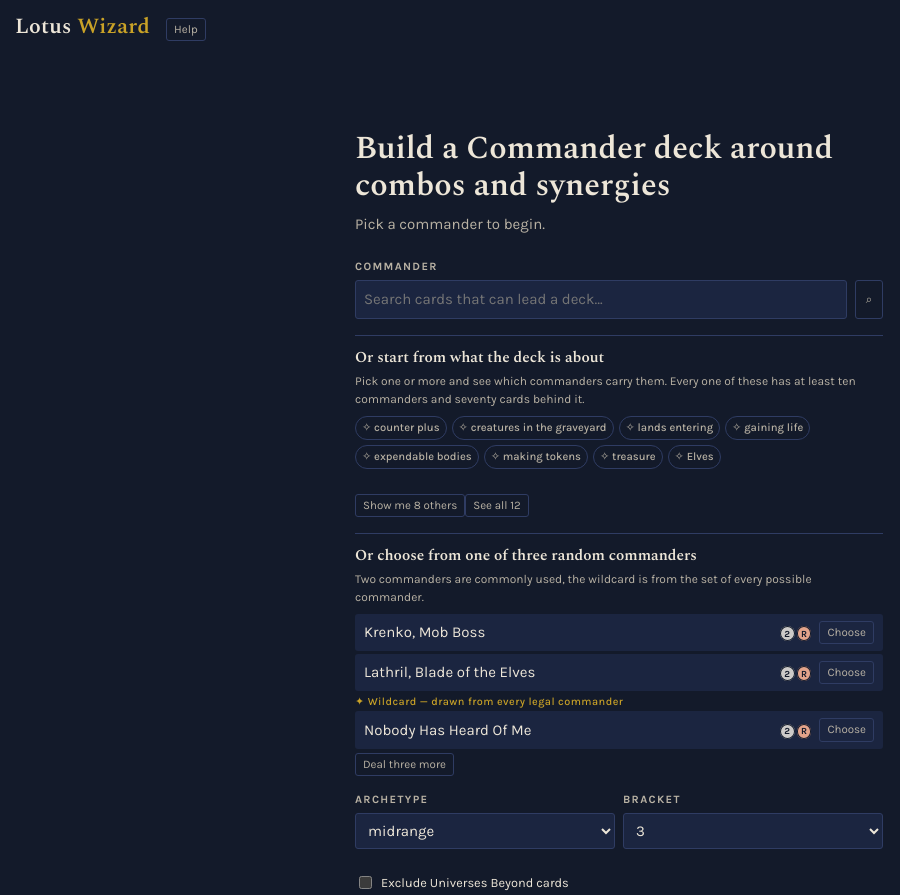
route 1 — start from what the deck is about › shows the commanders carrying a pick, as a real list
This screenshot has width=900, height=895.
Expected: the field labelled "Commander" is shown, 355,280 -> 847,319
Step 1. Click the button "✧ counter plus" → (401, 428), box 355,416 -> 447,440
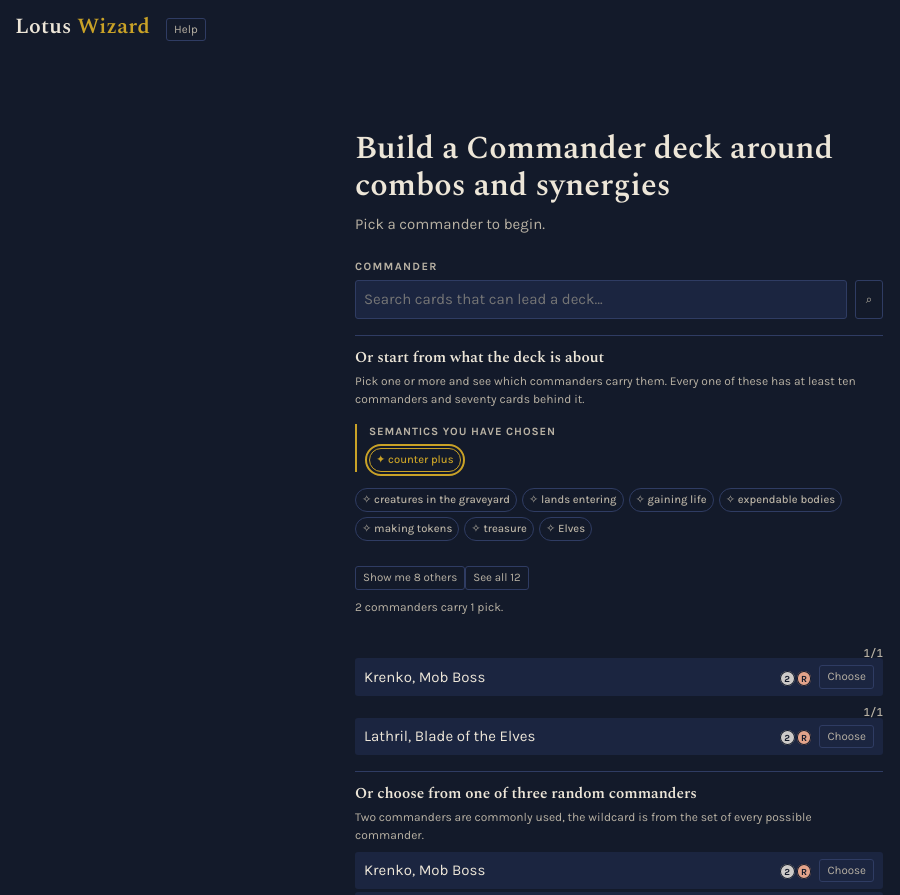
Result: the list named "Commanders carrying the chosen semantics" is shown at 355,640 -> 883,755
